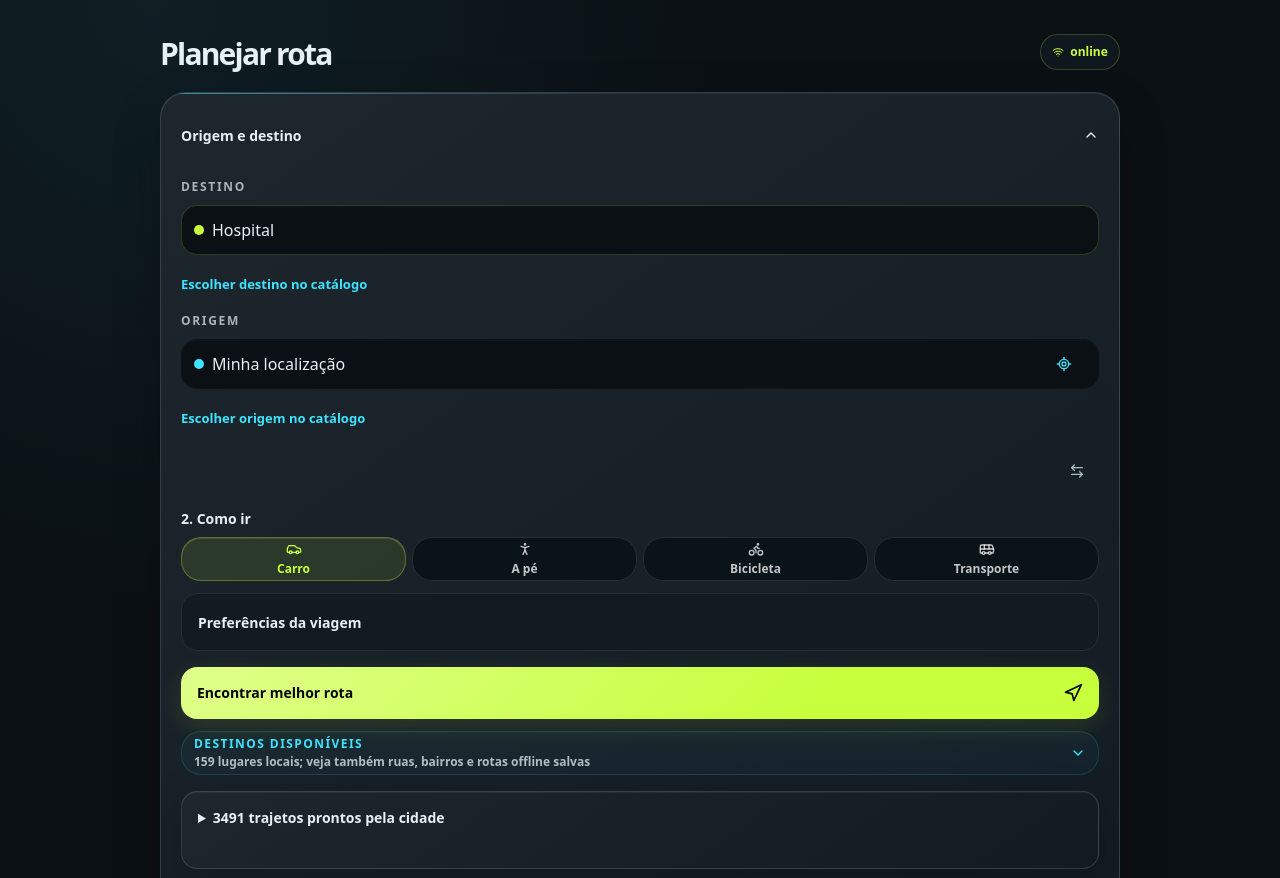
Test case: Planner travel state › does not auto-save a route created from the device location
The width and height of the screenshot is (1280, 878).
Click the button with test id "planner-primary-action" at (275, 692), box x1=181 y1=667 x2=1099 y2=719
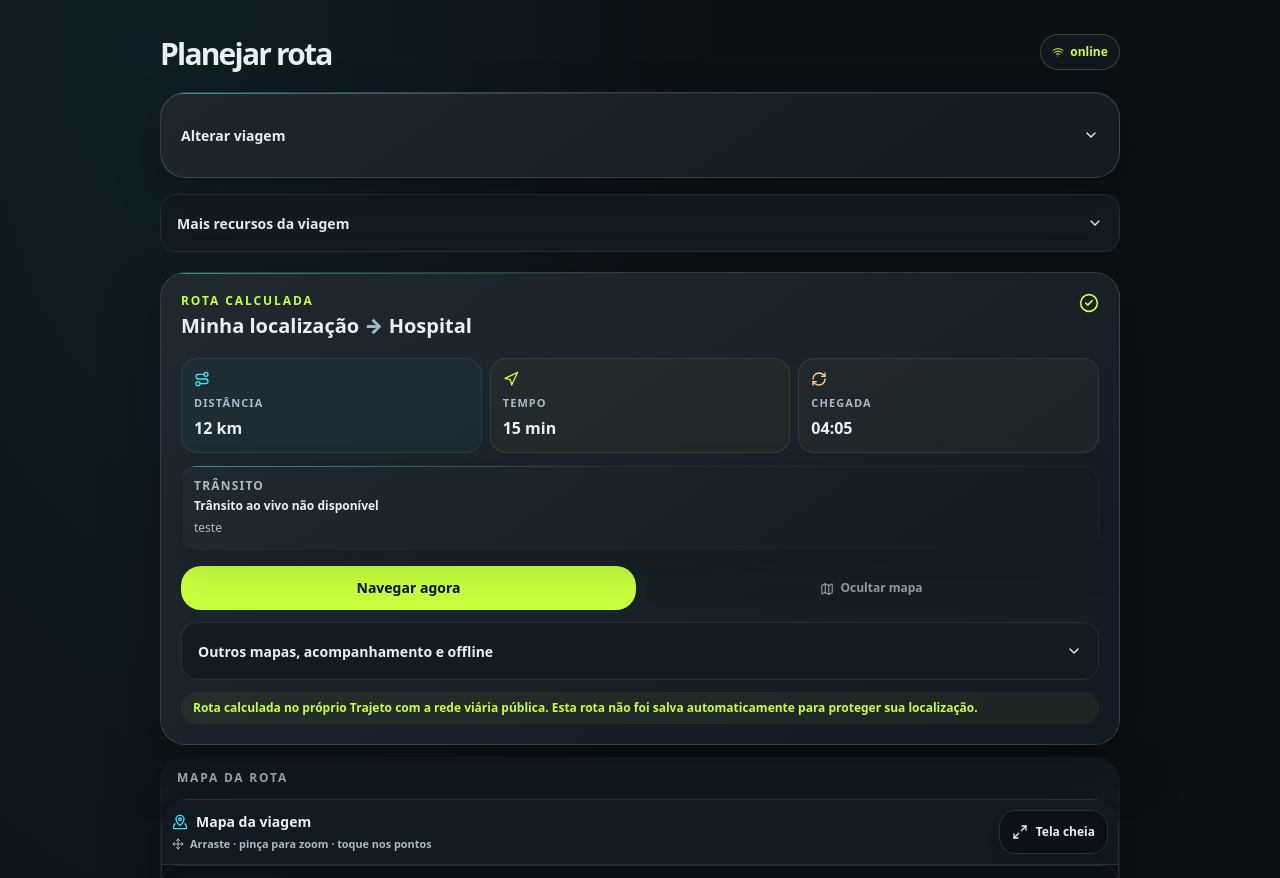
Result: the text "não foi salva automaticamente para proteger sua localização" is shown at x1=193 y1=699 x2=978 y2=716
